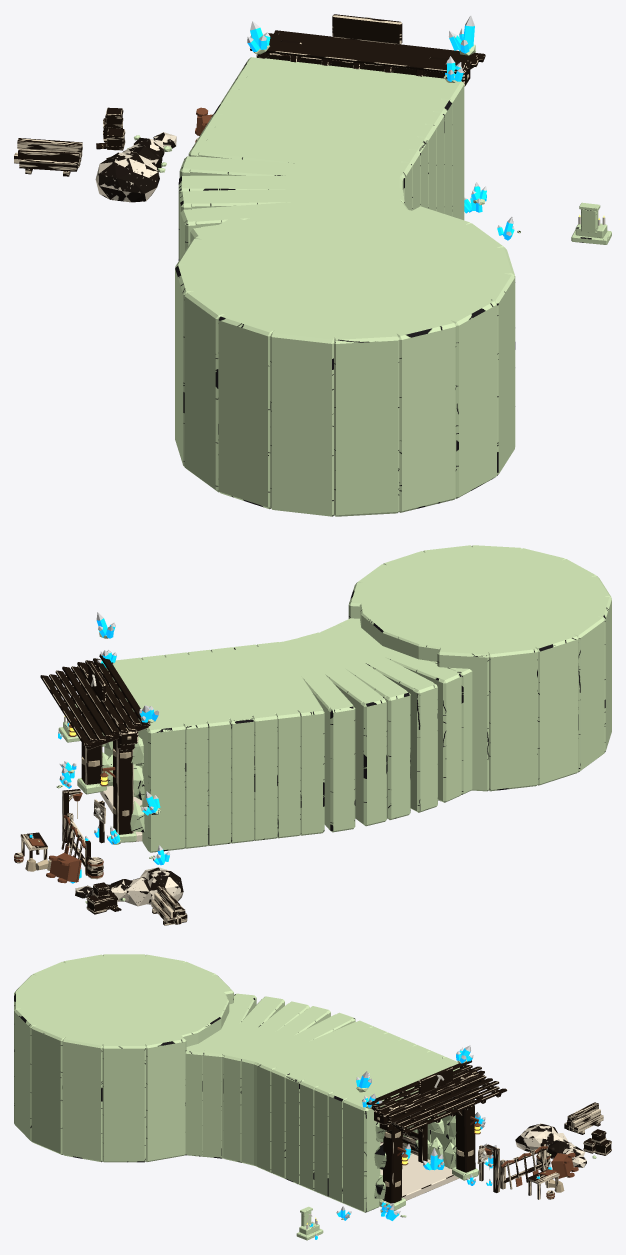
The model's file is LOBBY_04_MINE_87a2cf.fbx.
The picture shows the model from 3 angles, top to bottom: view 1: azimuth 30°, elevation 25°; view 2: azimuth 150°, elevation 25°; view 3: azimuth 270°, elevation 25°; orthographic projection. The views are drawn at different scales.
Visible parts, largest first — view 1: MINE_Tunnel_Shell__Cliff_Rock_Dark, MINE_Entrance_Portal__Wood_Plank_B, MINE_Entrance_Portal__Wood_Dark, MINE_Entrance_Portal__Dirt, MINE_Entrance_Portal__Crystal_Blue, MINE_Entrance_Portal__Cliff_Rock_Dark_B, MINE_Entrance_Portal__Wood_Dark_B; view 2: MINE_Tunnel_Shell__Cliff_Rock_Dark, MINE_Entrance_Portal__Wood_Plank_B, MINE_Entrance_Portal__Wood_Dark, MINE_Entrance_Portal__Dirt, MINE_Entrance_Portal__Metal_Rust, MINE_Entrance_Portal__Crystal_Blue, MINE_Entrance_Portal__Cliff_Rock_Dark_B, MINE_Entrance_Portal__Wood_Dark_B, MINE_Entrance_Portal__Crystal_Blue_Core, MINE_Entrance_Portal__Rope; view 3: MINE_Tunnel_Shell__Cliff_Rock_Dark, MINE_Entrance_Portal__Wood_Plank_B, MINE_Entrance_Portal__Wood_Dark, MINE_Entrance_Portal__Dirt, MINE_Tunnel_Shell__Dirt, MINE_Entrance_Portal__Crystal_Blue, MINE_Entrance_Portal__Metal_Rust, MINE_Entrance_Portal__Cliff_Rock_Dark_B, MINE_Entrance_Portal__Crystal_Blue_Core, MINE_Entrance_Portal__Wood_Dark_B, MINE_Entrance_Portal__Rope.
Part boxes in pixels (x1,y1,x2,y2): MINE_Tunnel_Shell__Cliff_Rock_Dark: (175, 57, 515, 516); MINE_Entrance_Portal__Wood_Plank_B: (14, 30, 485, 171); MINE_Entrance_Portal__Wood_Dark: (25, 14, 473, 176); MINE_Entrance_Portal__Dirt: (95, 132, 176, 202); MINE_Entrance_Portal__Crystal_Blue: (247, 25, 514, 240); MINE_Entrance_Portal__Cliff_Rock_Dark_B: (127, 44, 611, 244); MINE_Entrance_Portal__Wood_Dark_B: (96, 107, 124, 150); MINE_Tunnel_Shell__Cliff_Rock_Dark: (102, 545, 611, 852); MINE_Entrance_Portal__Wood_Plank_B: (14, 654, 187, 924); MINE_Entrance_Portal__Wood_Dark: (21, 662, 186, 925); MINE_Entrance_Portal__Dirt: (75, 867, 183, 906); MINE_Entrance_Portal__Metal_Rust: (14, 718, 115, 883); MINE_Entrance_Portal__Crystal_Blue: (29, 618, 169, 883); MINE_Entrance_Portal__Cliff_Rock_Dark_B: (38, 632, 160, 903); MINE_Entrance_Portal__Wood_Dark_B: (87, 799, 121, 914); MINE_Entrance_Portal__Crystal_Blue_Core: (30, 612, 169, 869); MINE_Entrance_Portal__Rope: (25, 701, 131, 908); MINE_Tunnel_Shell__Cliff_Rock_Dark: (14, 954, 459, 1212); MINE_Entrance_Portal__Wood_Plank_B: (366, 1060, 603, 1199); MINE_Entrance_Portal__Wood_Dark: (371, 1065, 611, 1203); MINE_Entrance_Portal__Dirt: (515, 1123, 586, 1167); MINE_Tunnel_Shell__Dirt: (380, 1142, 459, 1200); MINE_Entrance_Portal__Crystal_Blue: (309, 1048, 551, 1239); MINE_Entrance_Portal__Metal_Rust: (397, 1116, 578, 1198); MINE_Entrance_Portal__Cliff_Rock_Dark_B: (296, 1059, 596, 1240); MINE_Entrance_Portal__Crystal_Blue_Core: (309, 1045, 552, 1236); MINE_Entrance_Portal__Wood_Dark_B: (477, 1129, 611, 1163); MINE_Entrance_Portal__Rope: (377, 1071, 564, 1192).
Bounding box in the file's own units: 61.86 × 23.82 × 88.37.
Materials: 13 (3 with a texture image).
